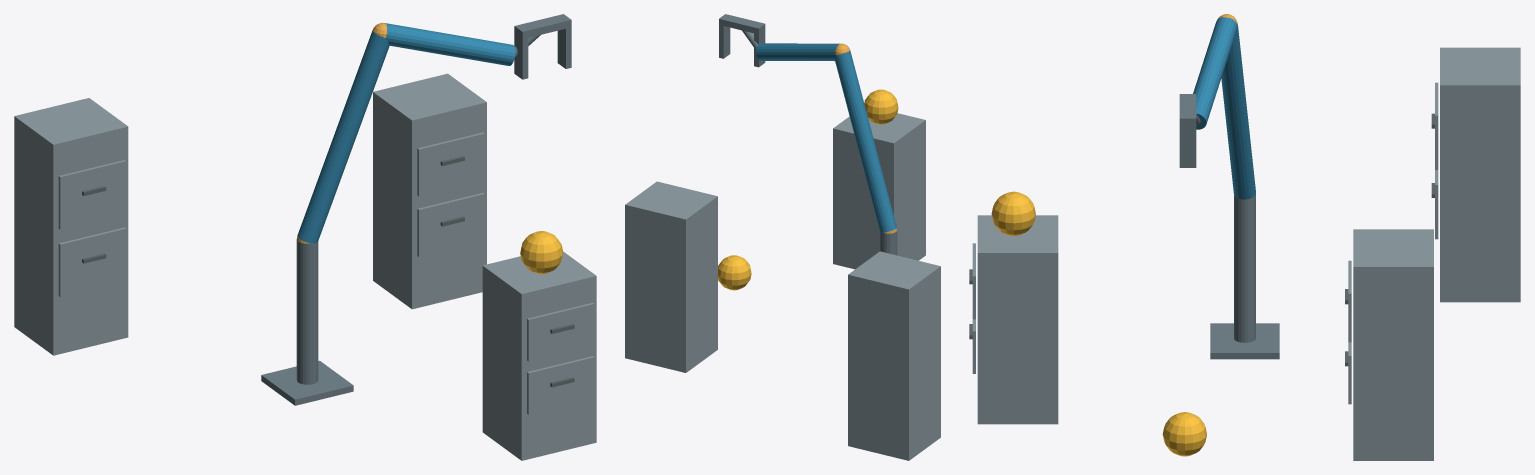
3 views of the same model, side by side, from view 1: azimuth 30°, elevation 25°; view 2: azimuth 150°, elevation 25°; view 3: azimuth 270°, elevation 25° (orthographic). The views are drawn at different scales.
Visible parts, largest first — view 1: cabinet_3 body, cabinet_2 body, cabinet_1 body, moving link 1, cabinet_3 drawer front, cabinet_3 drawer front.001, cabinet_2 drawer front, fixed post, cabinet_2 drawer front.001, moving link 2, cabinet_1 drawer front, cabinet_1 drawer front.001 (+4 smaller); view 2: cabinet_3 body, cabinet_2 body, cabinet_1 body, moving link 1, moving link 2, ball ball_2, released ball_1, gripper bridge, fixed post, gripper finger 1; view 3: cabinet_3 body, cabinet_2 body, cabinet_1 body, moving link 1, fixed post, moving link 2, pedestal, ball ball_2, released ball_1, gripper finger 1, gripper bridge.
Part boxes in pixels (<box>): cabinet_3 body: <box>14,98,128,355</box>; cabinet_2 body: <box>373,73,486,309</box>; cabinet_1 body: <box>482,251,596,460</box>; moving link 1: <box>297,30,389,243</box>; cabinet_3 drawer front: <box>58,227,126,297</box>; cabinet_3 drawer front.001: <box>58,160,126,229</box>; cabinet_2 drawer front: <box>417,192,484,256</box>; fixed post: <box>296,239,318,384</box>; cabinet_2 drawer front.001: <box>417,132,484,196</box>; moving link 2: <box>385,23,515,65</box>; cabinet_1 drawer front: <box>527,356,594,414</box>; cabinet_1 drawer front.001: <box>527,302,594,361</box>; cabinet_3 body: <box>848,251,940,460</box>; cabinet_2 body: <box>625,181,717,372</box>; cabinet_1 body: <box>833,113,925,269</box>; moving link 1: <box>834,50,896,232</box>; moving link 2: <box>755,43,839,61</box>; ball ball_2: <box>718,255,751,290</box>; released ball_1: <box>864,89,898,124</box>; gripper bridge: <box>719,14,765,34</box>; fixed post: <box>880,231,897,255</box>; gripper finger 1: <box>719,25,730,58</box>; cabinet_3 body: <box>1440,47,1520,302</box>; cabinet_2 body: <box>1353,229,1433,460</box>; cabinet_1 body: <box>977,215,1058,424</box>; moving link 1: <box>1221,24,1255,199</box>; fixed post: <box>1234,194,1255,342</box>; moving link 2: <box>1193,17,1237,129</box>; pedestal: <box>1210,323,1279,359</box>; ball ball_2: <box>1162,412,1206,456</box>; released ball_1: <box>991,191,1035,235</box>; gripper finger 1: <box>1179,126,1196,167</box>; gripper bridge: <box>1179,94,1196,126</box>.
Bounding box in the file's own units: 1.69 × 1.44 × 1.98.
